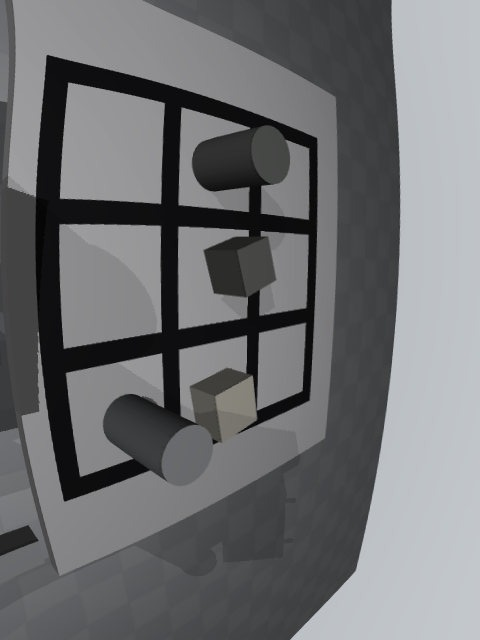can: (103, 394, 213, 486)
cube: (203, 237, 276, 298)
cylinder: (192, 125, 290, 192)
foam: (190, 368, 258, 444)
